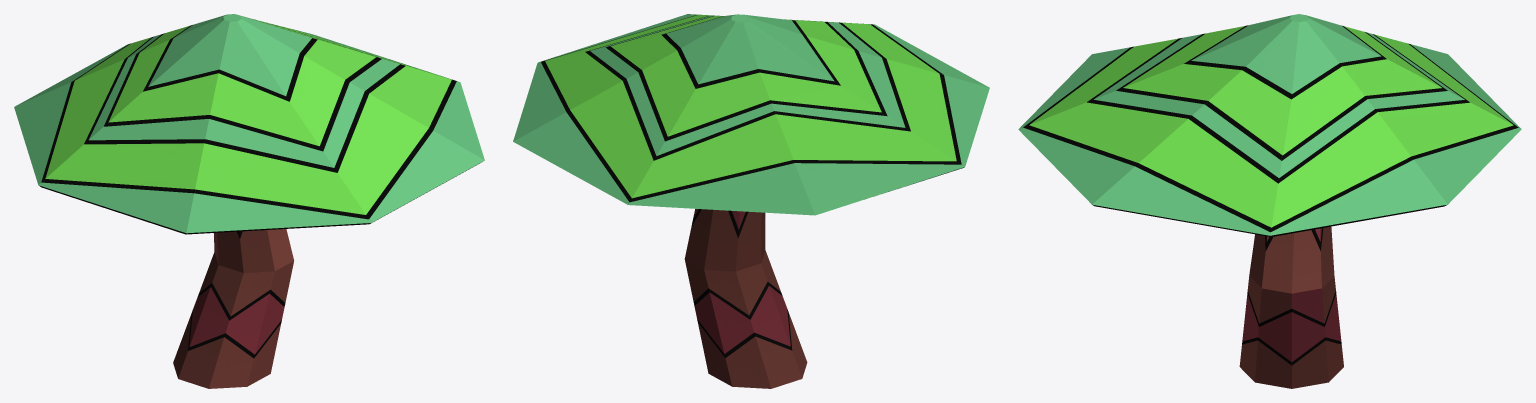
The model's file is GameTree.fbx.
3 renders of one model, left to right at view 1: azimuth 30°, elevation 25°; view 2: azimuth 150°, elevation 25°; view 3: azimuth 270°, elevation 25°, orthographic. The views are drawn at different scales.
Parts seen in each view (by area): view 1: GameTree; view 2: GameTree; view 3: GameTree.
Part boxes in pixels (x1,y1,x2,y2): GameTree: (14, 14, 484, 388); GameTree: (513, 14, 989, 388); GameTree: (1018, 14, 1521, 388).
Bounding box in the file's own units: 401 × 312 × 401.
Materials: 1 (1 with a texture image).
